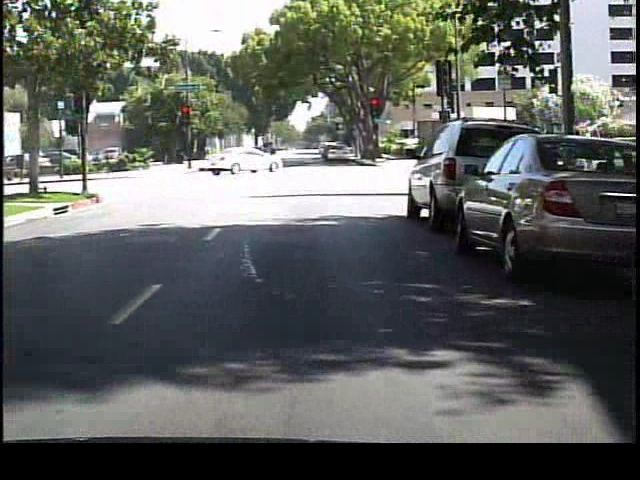person: (268, 140, 283, 171)
